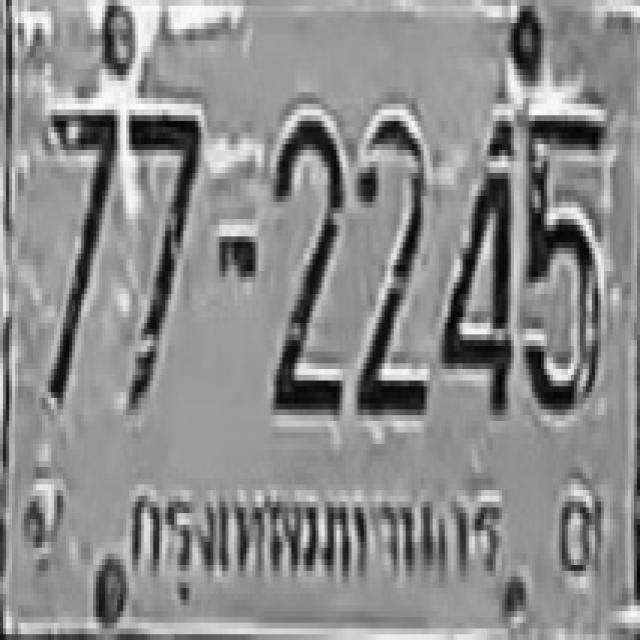2: (353, 110, 425, 410), (269, 112, 341, 406)
4: (437, 116, 512, 410)
5: (522, 110, 602, 410)
7: (126, 110, 198, 403), (46, 104, 116, 398)
Bangkok: (120, 467, 505, 599)
